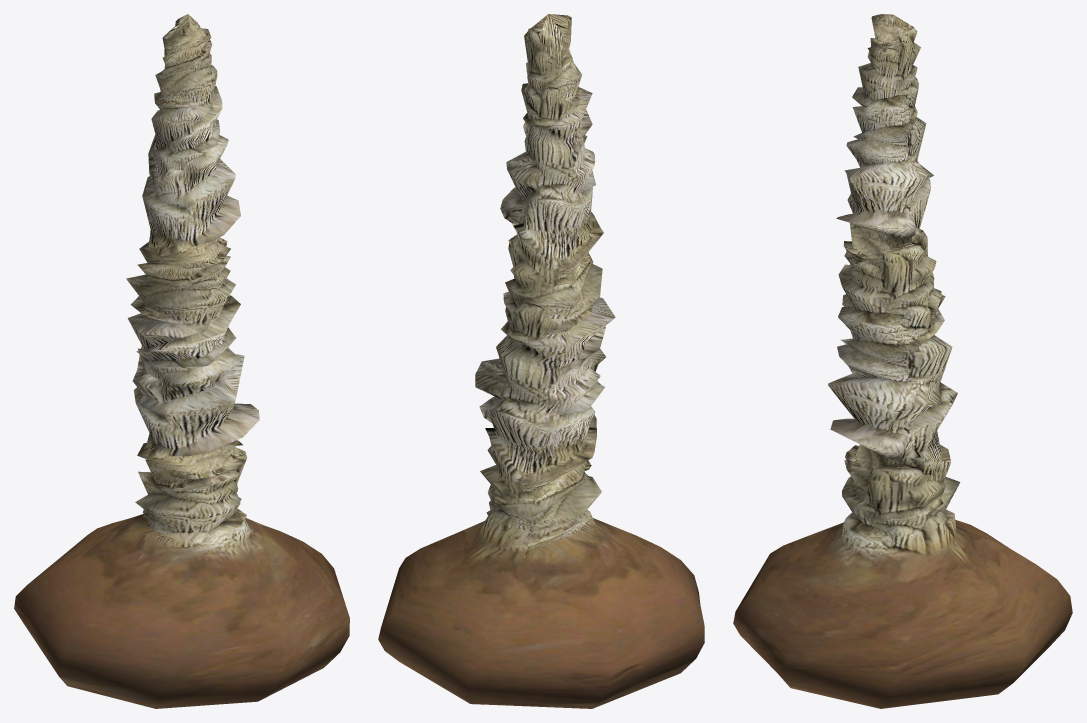
The model's file is rock_taan_stalagspire_l0.fbx.
3 renders of one model, left to right at view 1: azimuth 30°, elevation 25°; view 2: azimuth 150°, elevation 25°; view 3: azimuth 270°, elevation 25°, orthographic.
Parts seen in each view (by area): view 1: mesh_node; view 2: mesh_node; view 3: mesh_node.
Boxes of the visible parts, x1,y1,x2,y2 form: mesh_node: [14, 14, 349, 708]; mesh_node: [378, 14, 704, 708]; mesh_node: [733, 14, 1072, 708].
Bounding box in the file's own units: 7.22 × 15 × 7.29.
